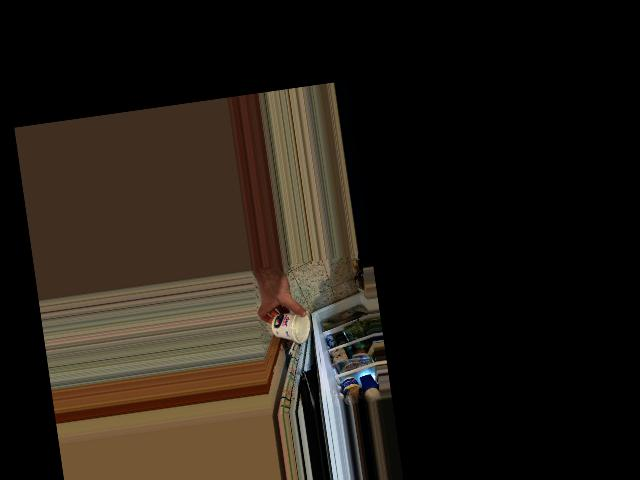cotage: (269, 307, 304, 347)
